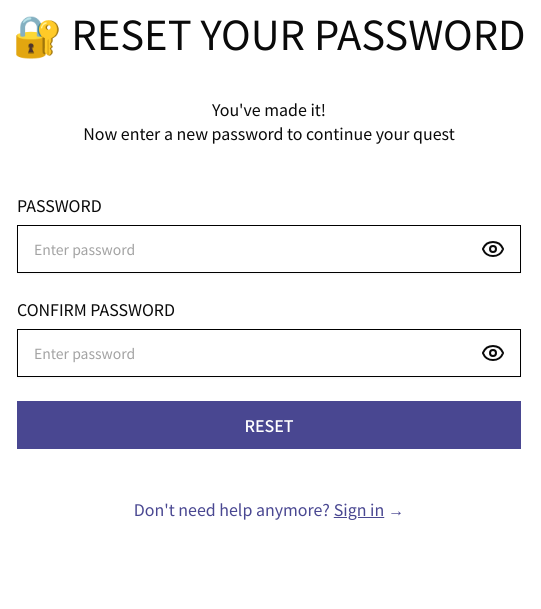
ResetPassword Page › Form Validation › shows validation error for short password
In the password field labelled "Password": (269, 249) [17, 225, 521, 273], type "123"
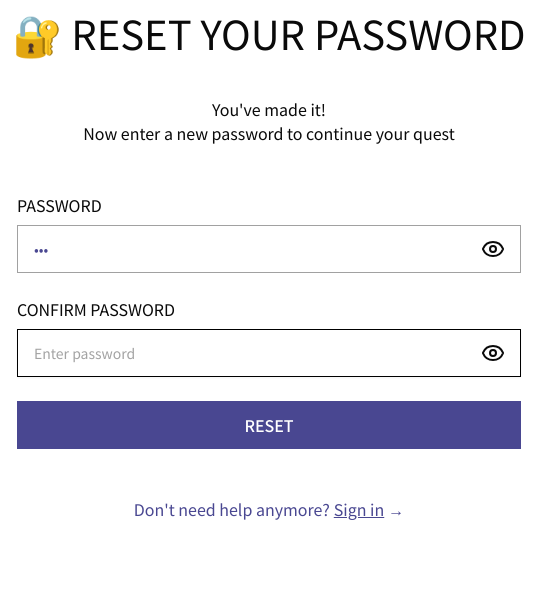
Click the button "RESET": click(269, 425) [17, 401, 521, 449]
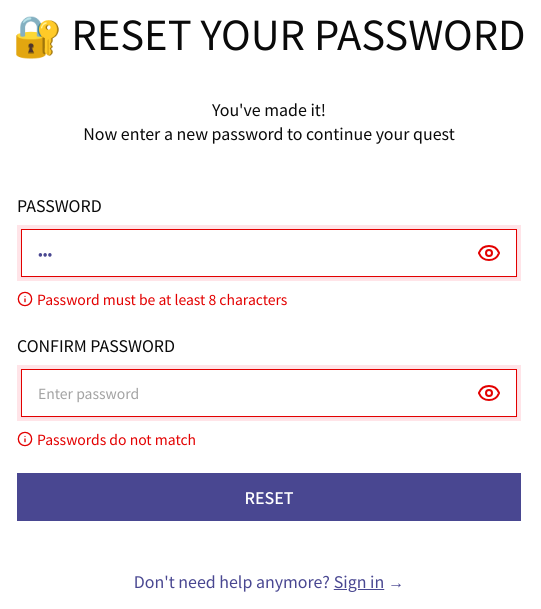
Result: the text "Password must be at least 8 characters" is shown at [37, 289, 287, 309]
